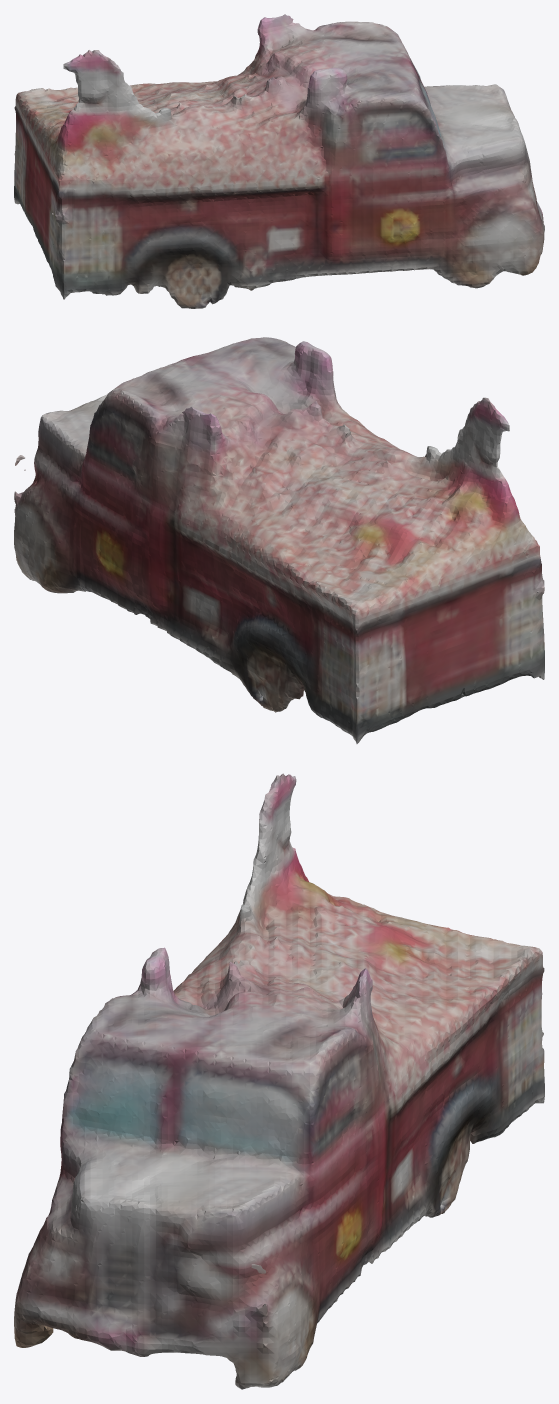
3 renders of one model, top to bottom at view 1: azimuth 30°, elevation 25°; view 2: azimuth 150°, elevation 25°; view 3: azimuth 270°, elevation 25°, orthographic. The views are drawn at different scales.
Visible parts, largest first — view 1: world; view 2: world; view 3: world.
Part boxes in pixels (x1,y1,x2,y2): world: [14, 14, 544, 308]; world: [14, 337, 544, 743]; world: [14, 773, 544, 1389].
Size of the model in its own units: 2 by 1.09 by 1.47.
